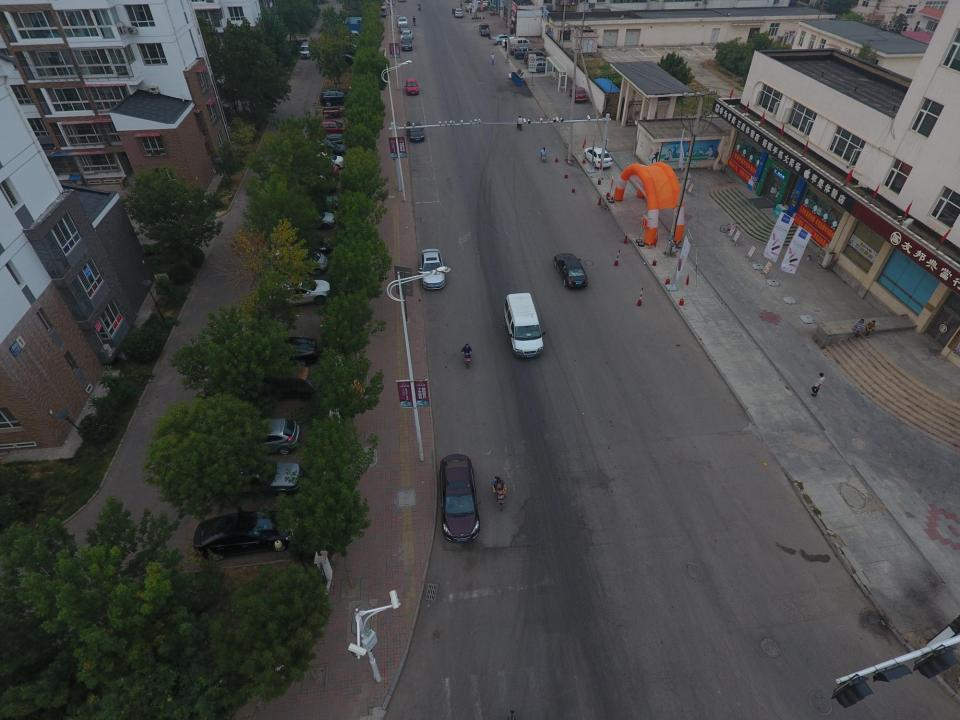car: (193, 511, 292, 560), (209, 458, 302, 498), (438, 454, 480, 542), (260, 278, 330, 309), (252, 337, 319, 367), (554, 253, 588, 288), (280, 233, 333, 255), (283, 209, 336, 230), (285, 192, 338, 213), (419, 249, 445, 289), (281, 174, 335, 193), (292, 165, 340, 182), (302, 152, 345, 170), (583, 147, 613, 168), (314, 134, 356, 148), (316, 120, 352, 136), (406, 120, 424, 142), (530, 60, 552, 73), (502, 37, 529, 47), (509, 44, 533, 55), (492, 34, 514, 45), (400, 30, 413, 42), (397, 17, 408, 28)
truck: (479, 24, 490, 36)
van: (224, 418, 300, 457), (504, 292, 545, 358), (250, 366, 319, 401), (274, 246, 327, 276), (302, 139, 348, 158), (319, 88, 356, 106), (514, 47, 540, 60), (524, 50, 548, 63), (526, 56, 551, 68), (405, 78, 419, 95), (508, 38, 530, 48), (300, 41, 312, 59), (401, 36, 412, 51), (399, 23, 409, 34), (452, 9, 463, 17)
